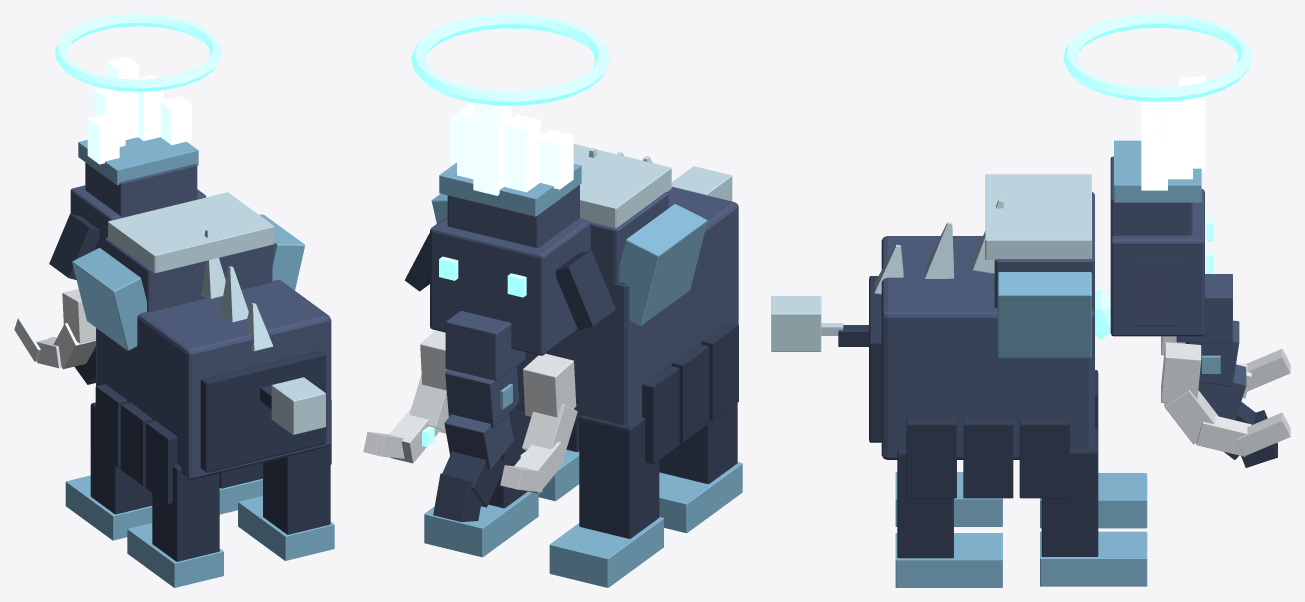
File: king-mammoth.glb
The picture shows the model from 3 angles, left to right: view 1: azimuth 30°, elevation 25°; view 2: azimuth 150°, elevation 25°; view 3: azimuth 270°, elevation 25°; orthographic projection. The views are drawn at different scales.
Visible parts, largest first — view 1: body, head, leg.BL, leg.BR, leg.FR, tail, ear.R, leg.FL; view 2: head, body, leg.FR, leg.BR, leg.FL, ear.R, leg.BL, tail, ear.L; view 3: body, head, leg.FL, leg.BL, tail, leg.FR, ear.L, leg.BR.
Part boxes in pixels (<box>): body: <box>72,192,331,504</box>; head: <box>14,14,221,384</box>; leg.BL: <box>238,445,334,560</box>; leg.BR: <box>127,464,223,587</box>; leg.FR: <box>65,402,152,540</box>; tail: <box>260,377,325,434</box>; ear.R: <box>49,213,99,279</box>; leg.FL: <box>219,463,262,514</box>; head: <box>363,14,609,521</box>; body: <box>431,144,738,464</box>; leg.FR: <box>549,415,663,587</box>; leg.BR: <box>659,403,742,533</box>; leg.FL: <box>424,408,538,557</box>; ear.R: <box>556,250,615,330</box>; leg.BL: <box>538,423,579,501</box>; tail: <box>671,166,732,201</box>; ear.L: <box>404,233,429,291</box>; body: <box>869,174,1110,498</box>; head: <box>1063,14,1290,467</box>; leg.FL: <box>1040,428,1147,586</box>; leg.BL: <box>895,450,1002,587</box>; tail: <box>771,296,868,351</box>; leg.FR: <box>1040,370,1147,528</box>; ear.L: <box>1136,263,1179,326</box>; leg.BR: <box>895,472,1002,526</box>.
Bounding box in the file's own units: 0.4615 × 1 × 0.9581.
